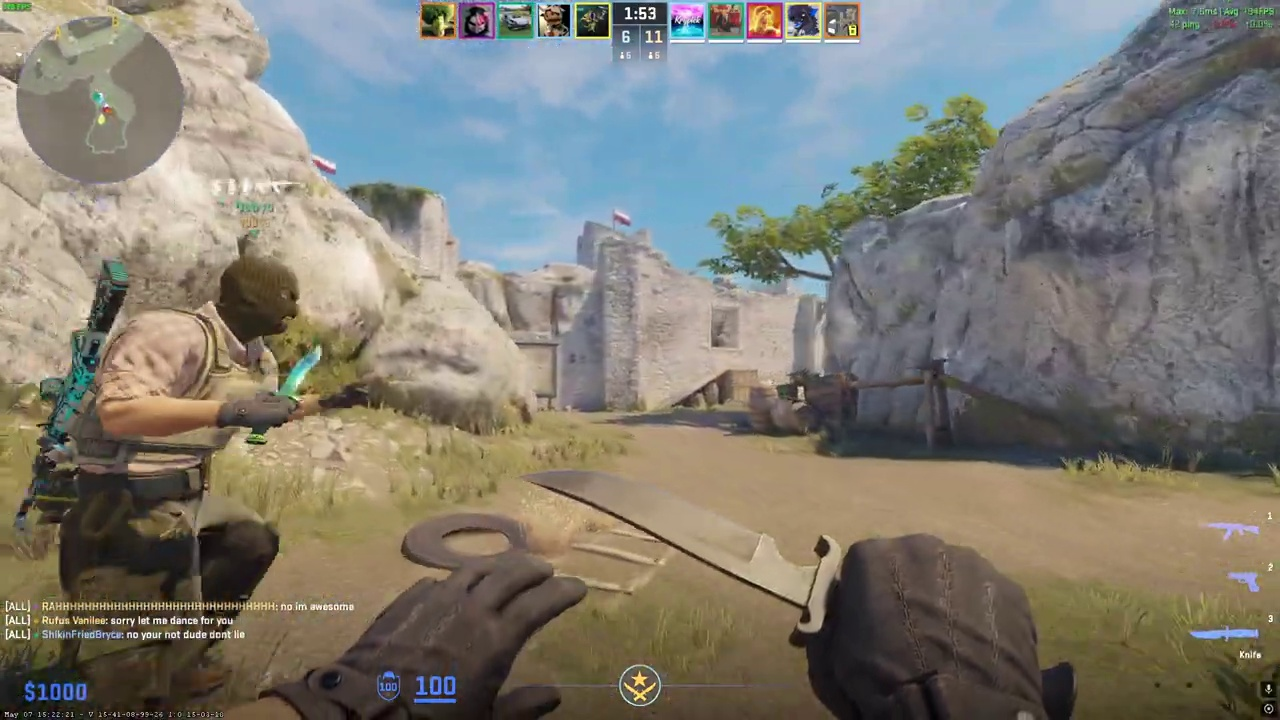Terrorist: (31, 254, 314, 715)
